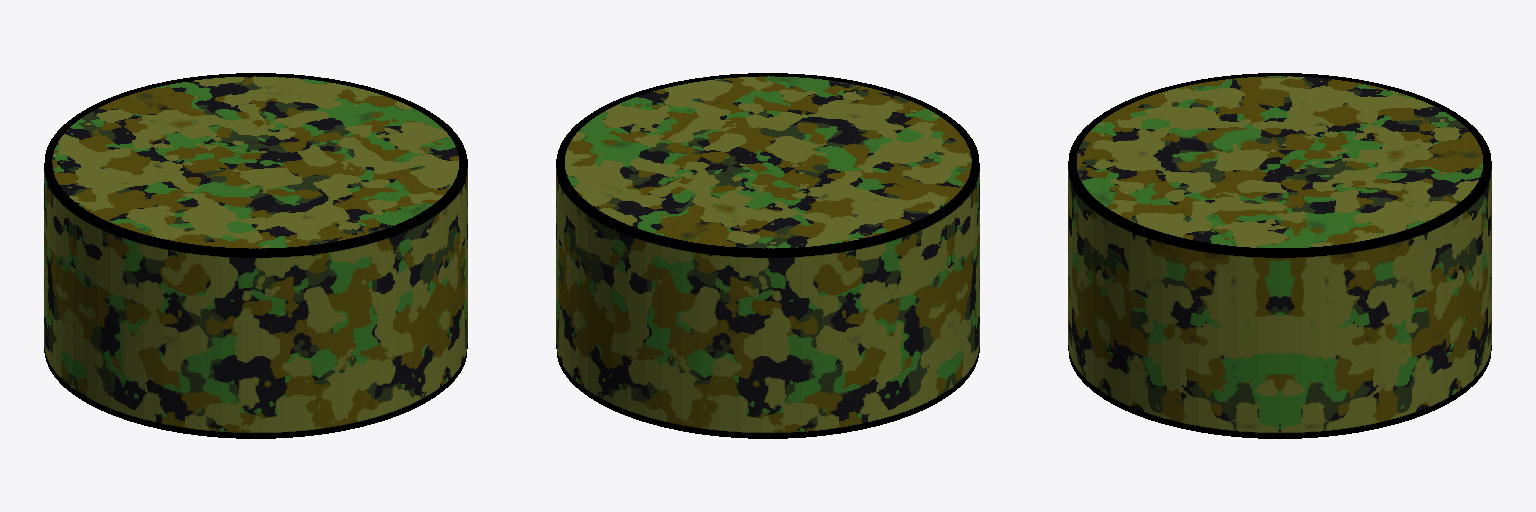
The picture shows the model from 3 angles: view 1: azimuth 30°, elevation 25°; view 2: azimuth 150°, elevation 25°; view 3: azimuth 270°, elevation 25°; orthographic projection.
Visible parts, largest first — view 1: camouflage_r2; view 2: camouflage_r2; view 3: camouflage_r2.
Boxes of the visible parts, x1,y1,x2,y2 form: camouflage_r2: [44, 73, 467, 438]; camouflage_r2: [556, 73, 979, 438]; camouflage_r2: [1068, 73, 1491, 438].
Bounding box in the file's own units: 4 × 1.95 × 4.
4 materials, 2 textured.